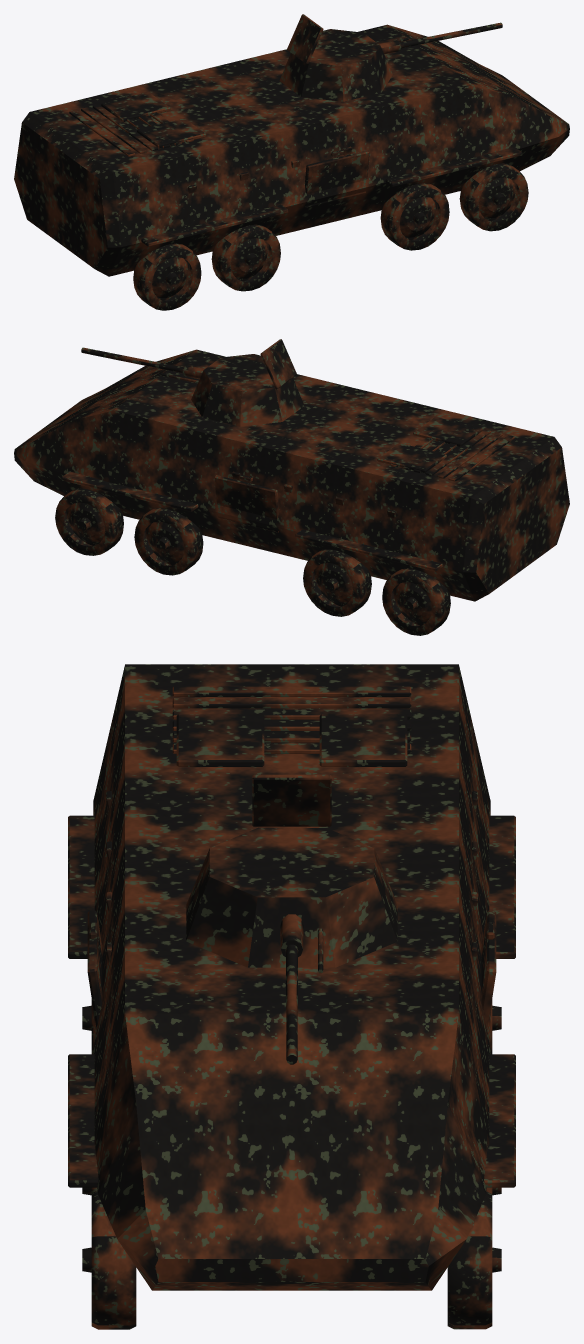
Rendered from S7U_BurntAPC.fbx.
The picture shows the model from 3 angles, top to bottom: view 1: azimuth 30°, elevation 25°; view 2: azimuth 150°, elevation 25°; view 3: azimuth 270°, elevation 25°; orthographic projection. The views are drawn at different scales.
Parts seen in each view (by area): view 1: S7U_BurntAPC; view 2: S7U_BurntAPC; view 3: S7U_BurntAPC.
Boxes of the visible parts, left/top/right/bottom form: S7U_BurntAPC: left=14, top=14, right=569, bottom=310; S7U_BurntAPC: left=14, top=339, right=569, bottom=635; S7U_BurntAPC: left=68, top=664, right=515, bottom=1329.
Size of the model in its own units: 6.9 by 2.88 by 2.82.
